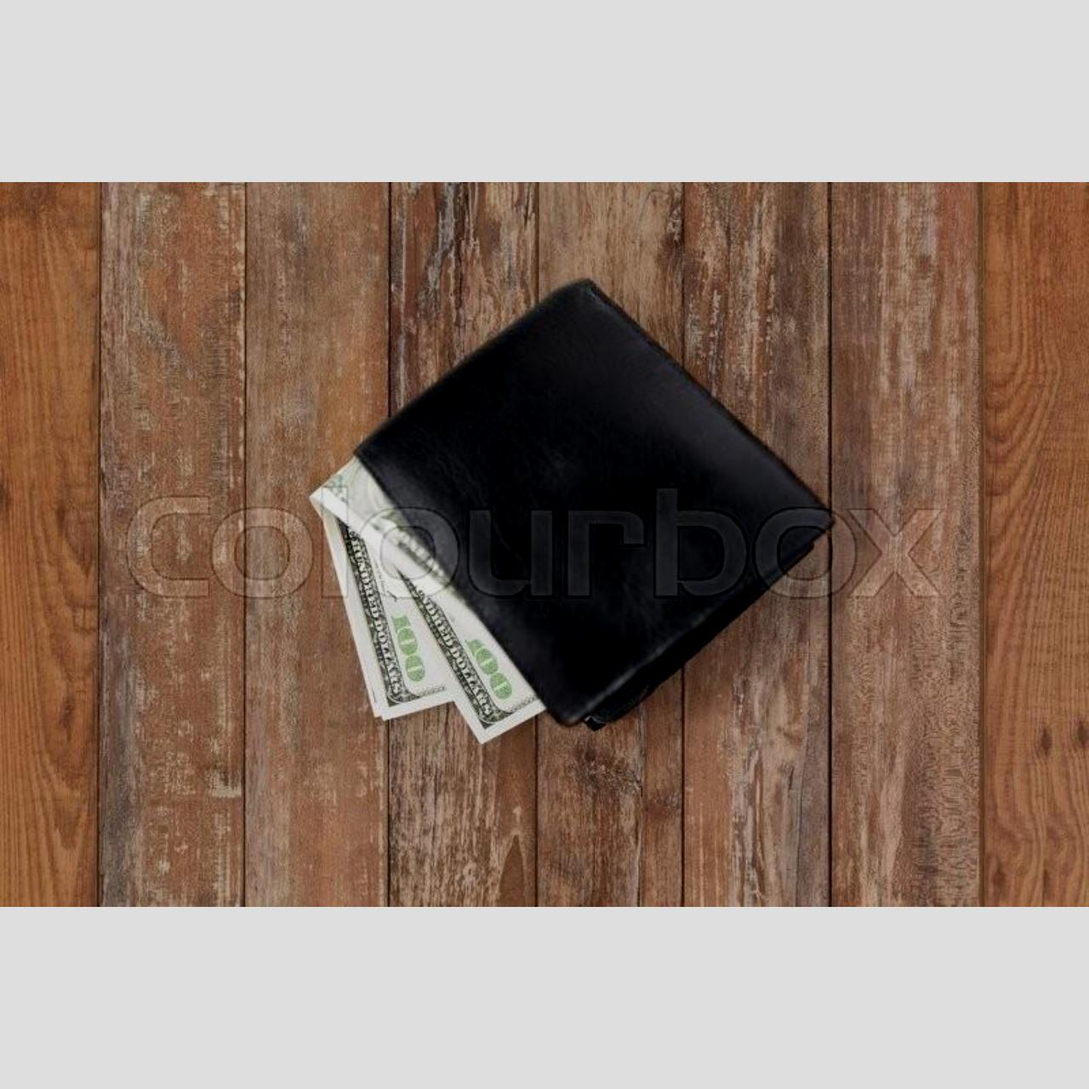wallet: (291, 225, 926, 830)
